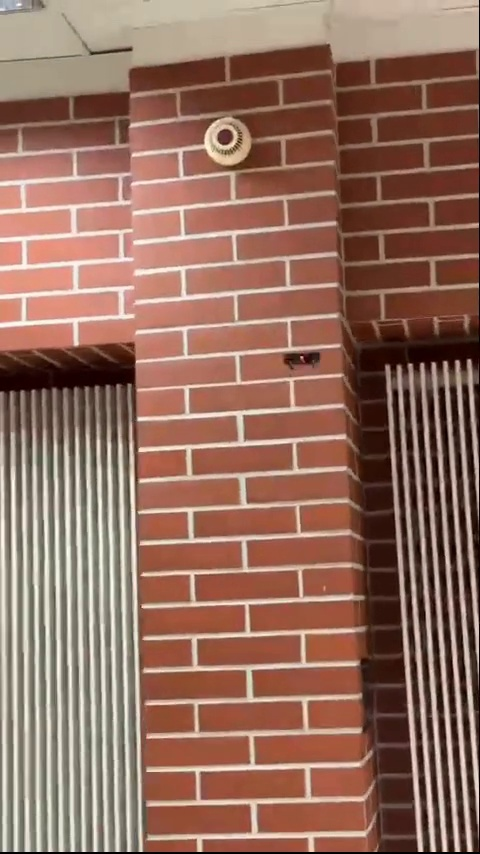drone: (286, 350, 324, 370)
